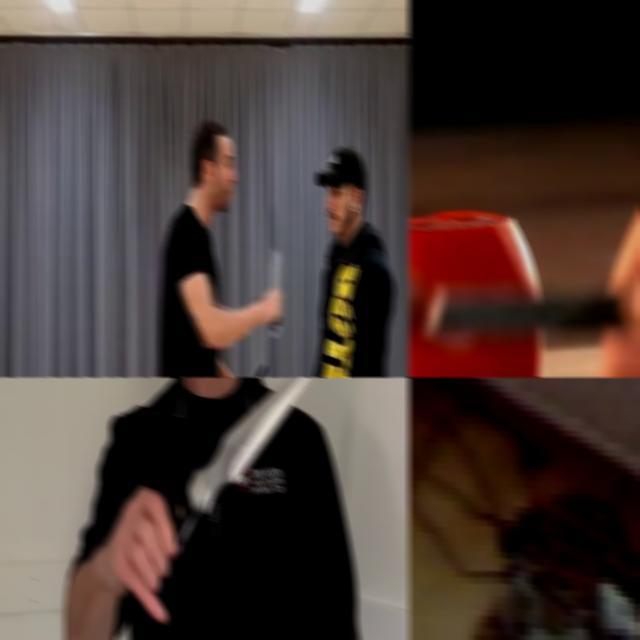Knife_Handle: (408, 24, 640, 377), (107, 377, 329, 624), (408, 377, 640, 523), (260, 248, 286, 337), (229, 361, 269, 377)
